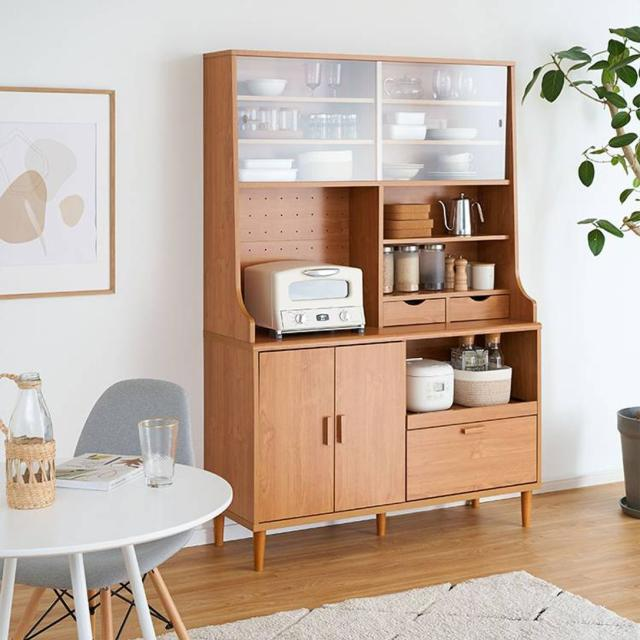vintage shelf: (183, 38, 564, 575)
